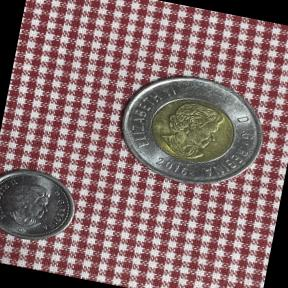coin: (104, 60, 278, 204), (0, 159, 84, 249)
